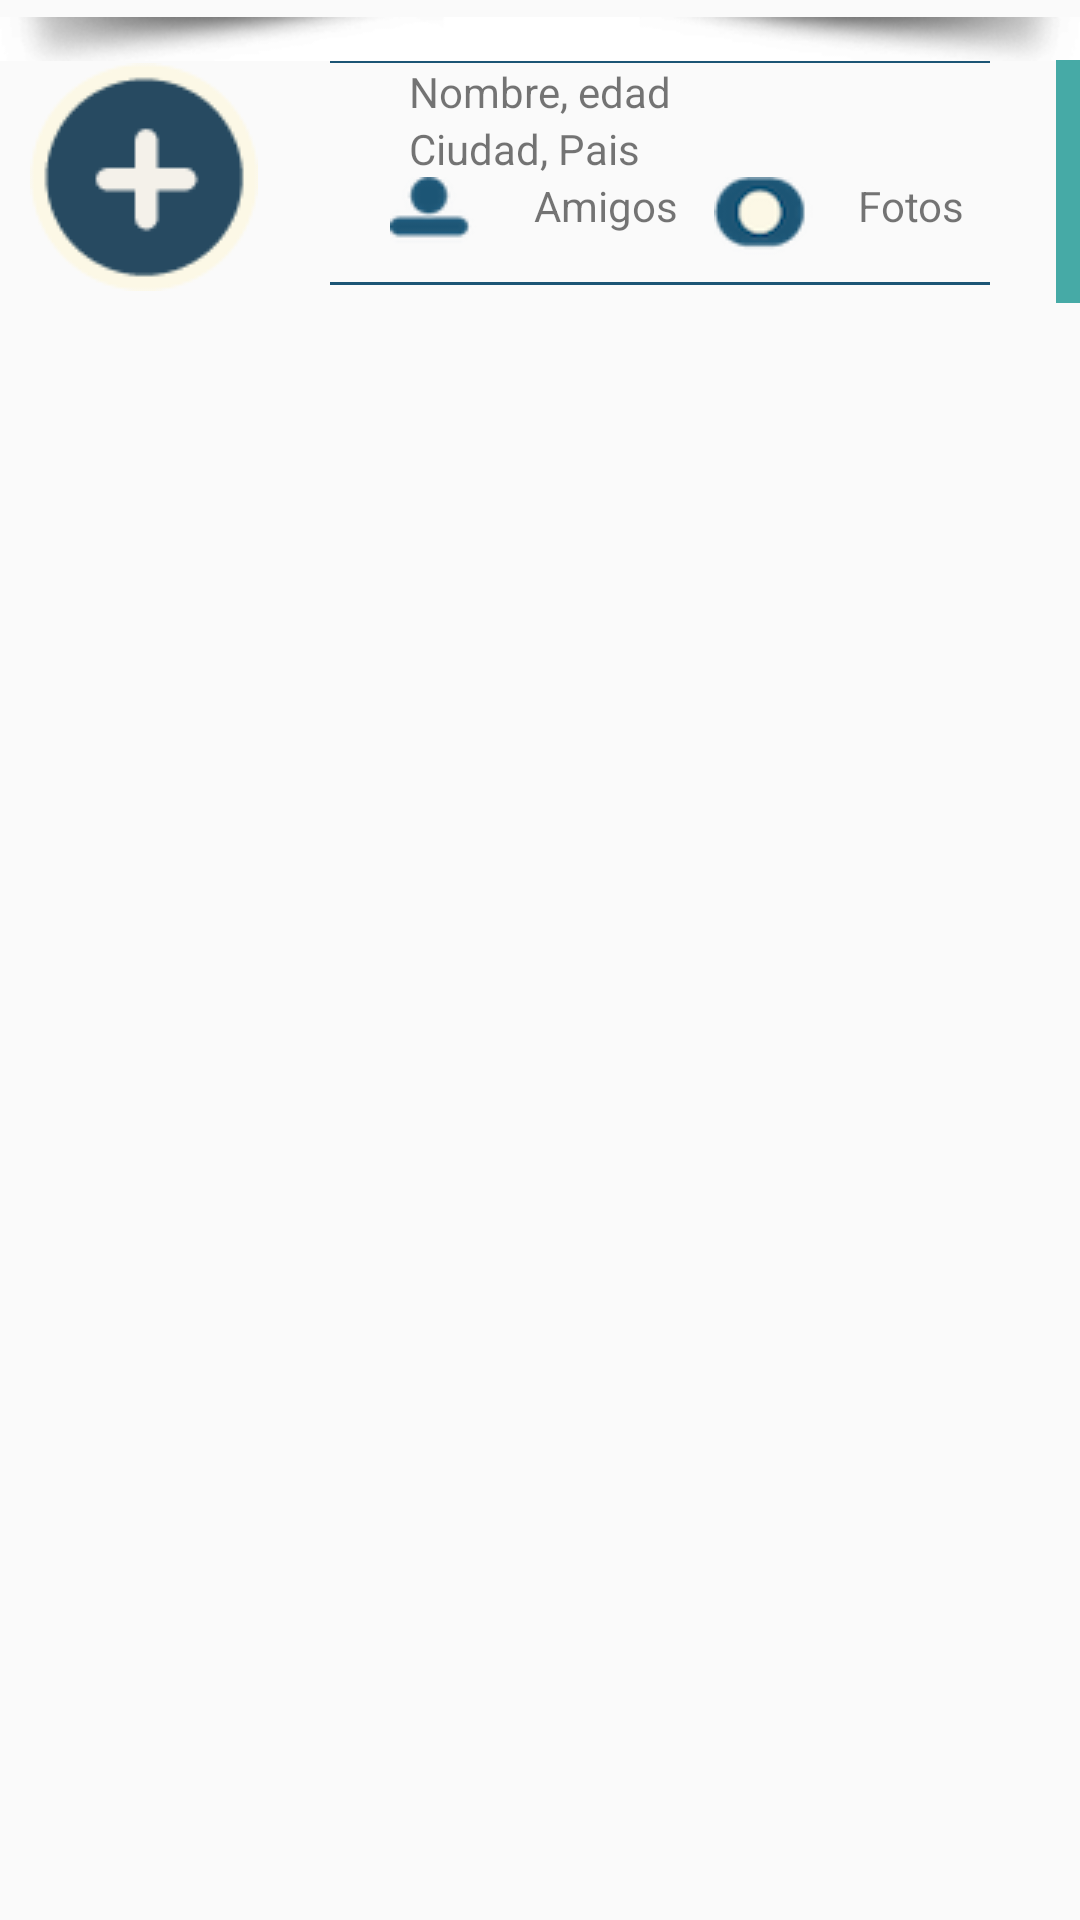

Screen size 1080 × 1920. Icon name, then its center in pixels as (x=x, y=y):
mas: (x=144, y=177)
